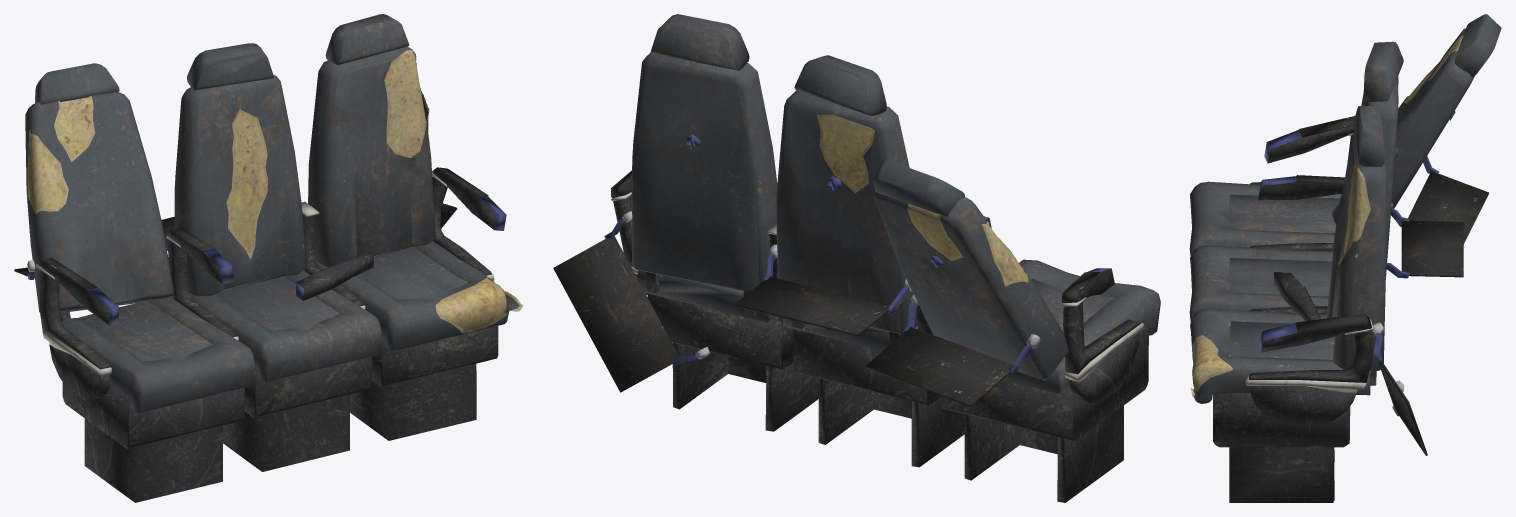
File: cargo_wreck_seats.glb
The picture shows the model from 3 angles, left to right: view 1: azimuth 30°, elevation 25°; view 2: azimuth 150°, elevation 25°; view 3: azimuth 270°, elevation 25°; orthographic projection. The views are drawn at different scales.
Visible parts, largest first — view 1: KB3D_WRK_PropAirplaneSeats_B_Main; view 2: KB3D_WRK_PropAirplaneSeats_B_Main; view 3: KB3D_WRK_PropAirplaneSeats_B_Main.
Boxes of the visible parts, left/top/right/bottom form: KB3D_WRK_PropAirplaneSeats_B_Main: left=14, top=14, right=522, bottom=502; KB3D_WRK_PropAirplaneSeats_B_Main: left=553, top=14, right=1160, bottom=502; KB3D_WRK_PropAirplaneSeats_B_Main: left=1189, top=14, right=1501, bottom=502.
Size of the model in its own units: 2.13 by 1.66 by 1.28.
Materials: 6 (6 with a texture image).
